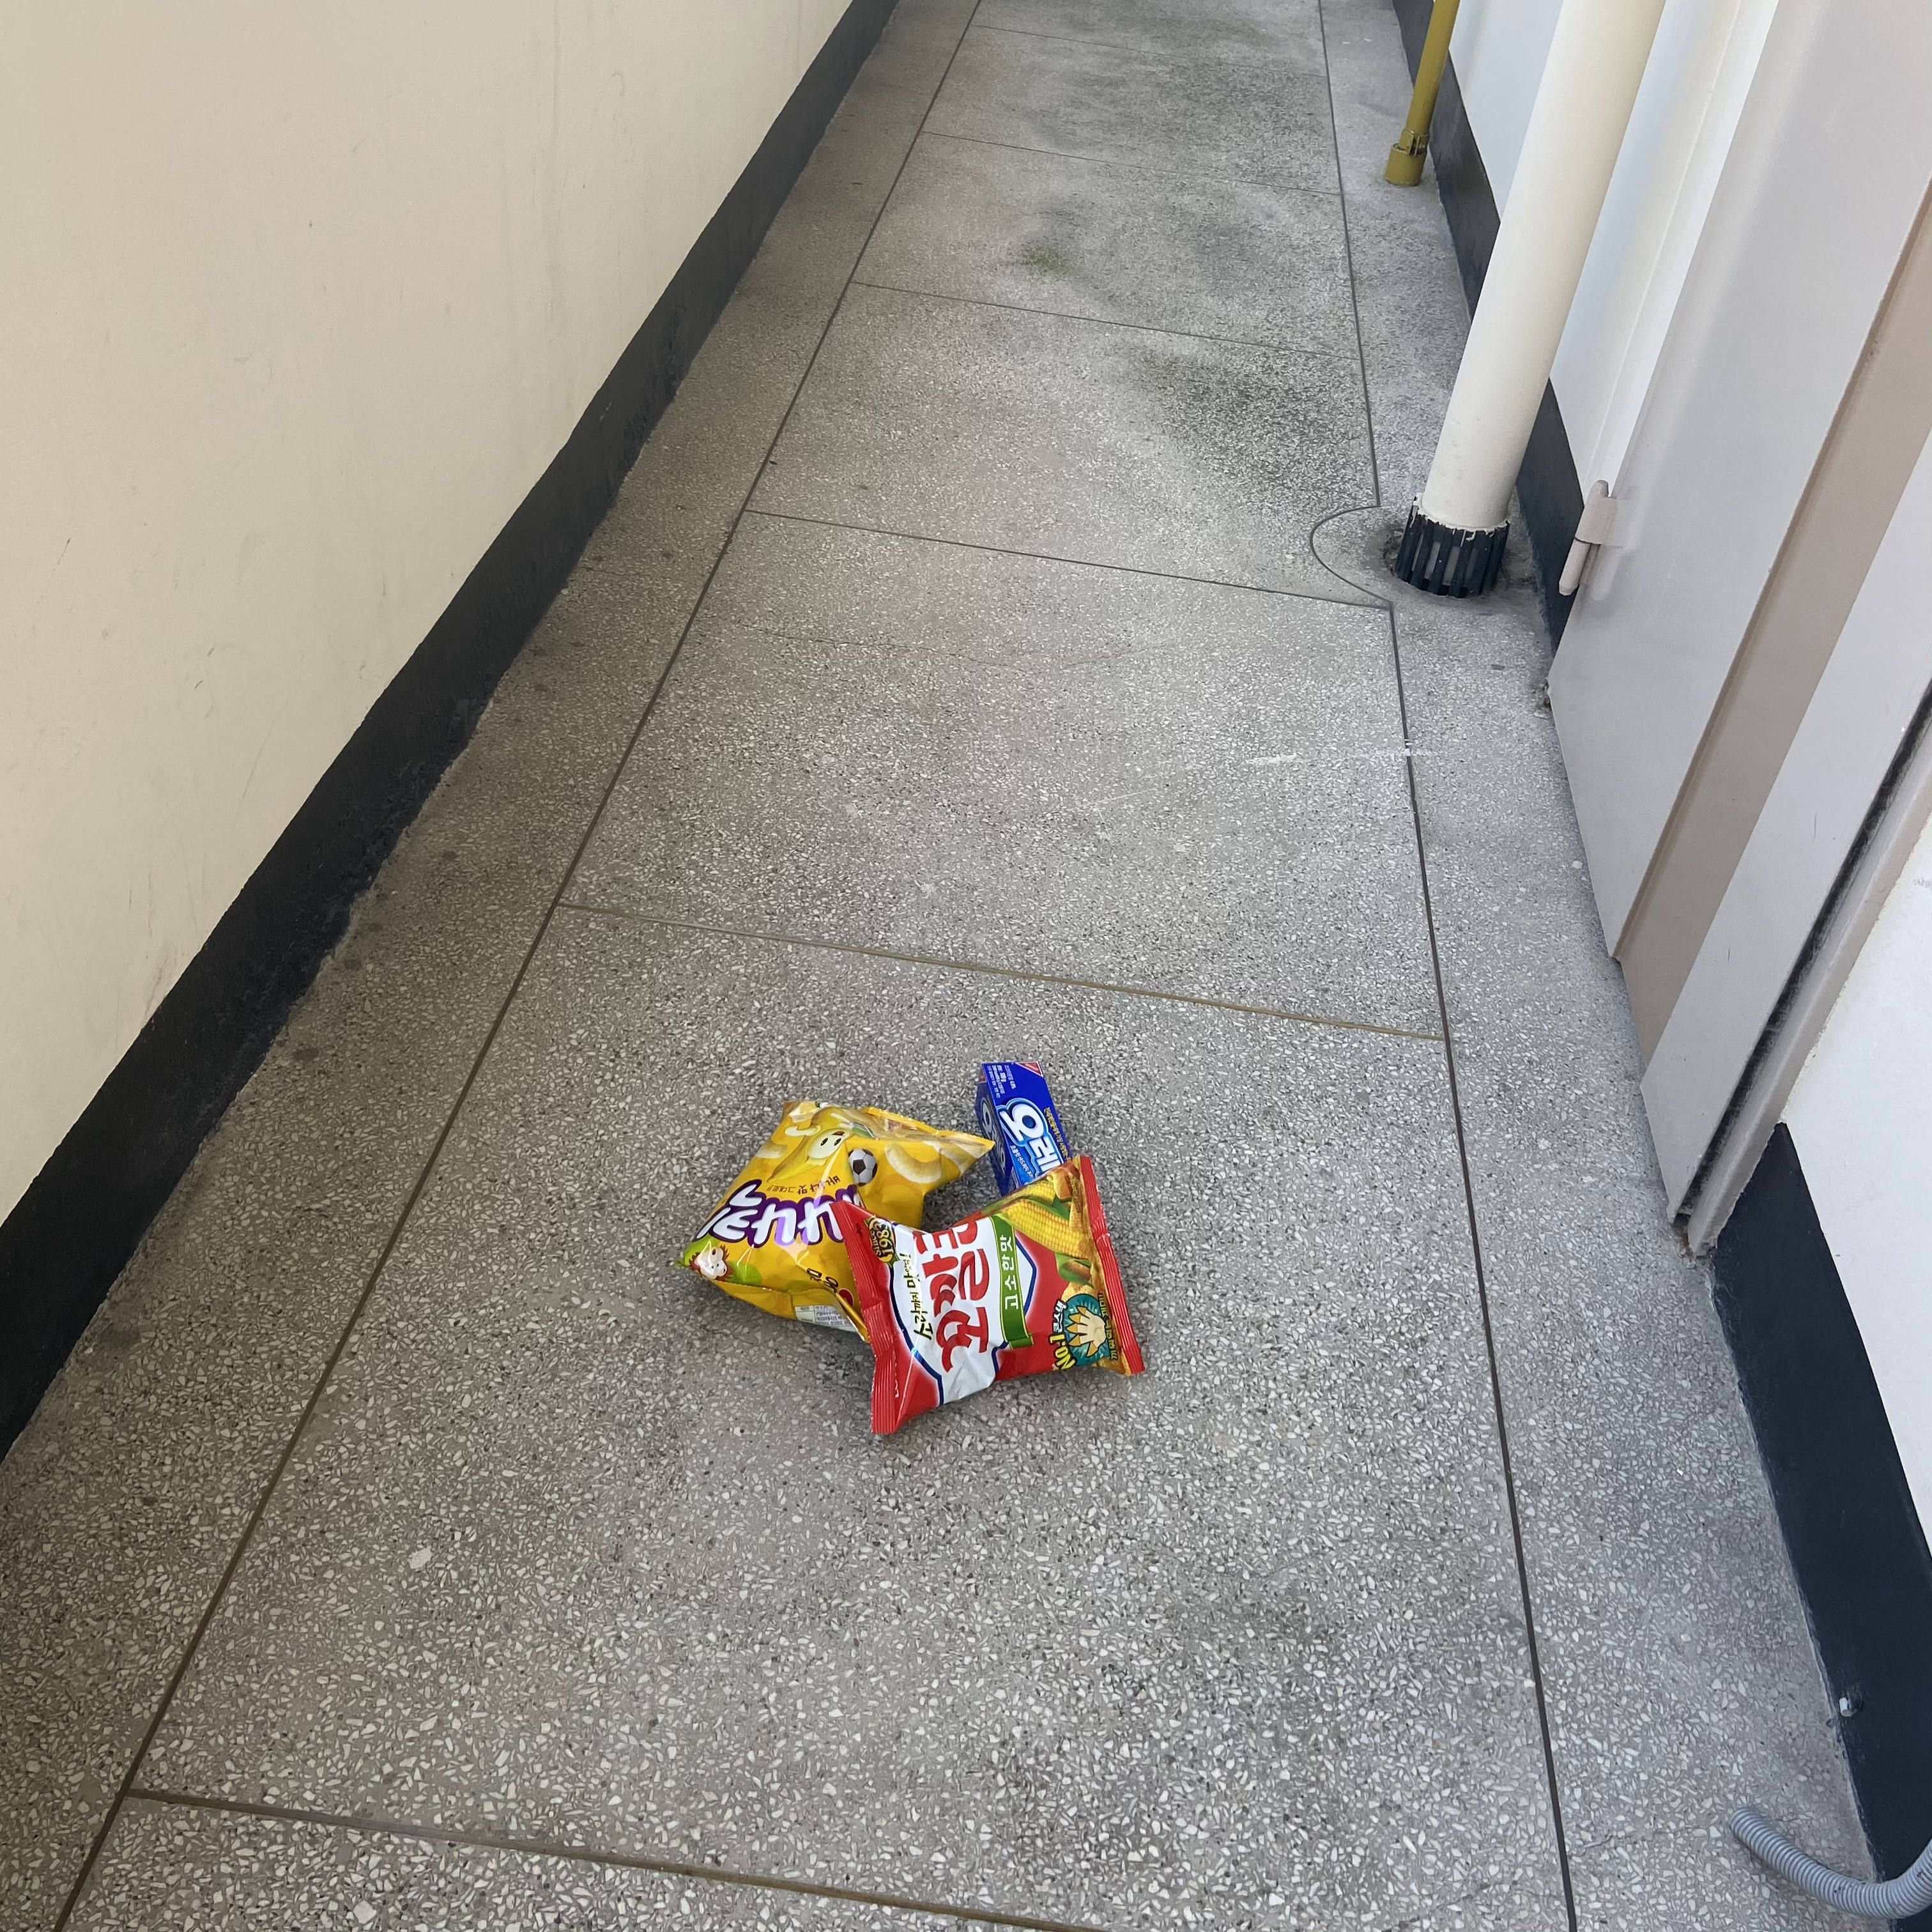banana: (671, 1086, 996, 1361)
ggoggalcon: (824, 1145, 1171, 1447)
oreo: (955, 1044, 1079, 1221)
